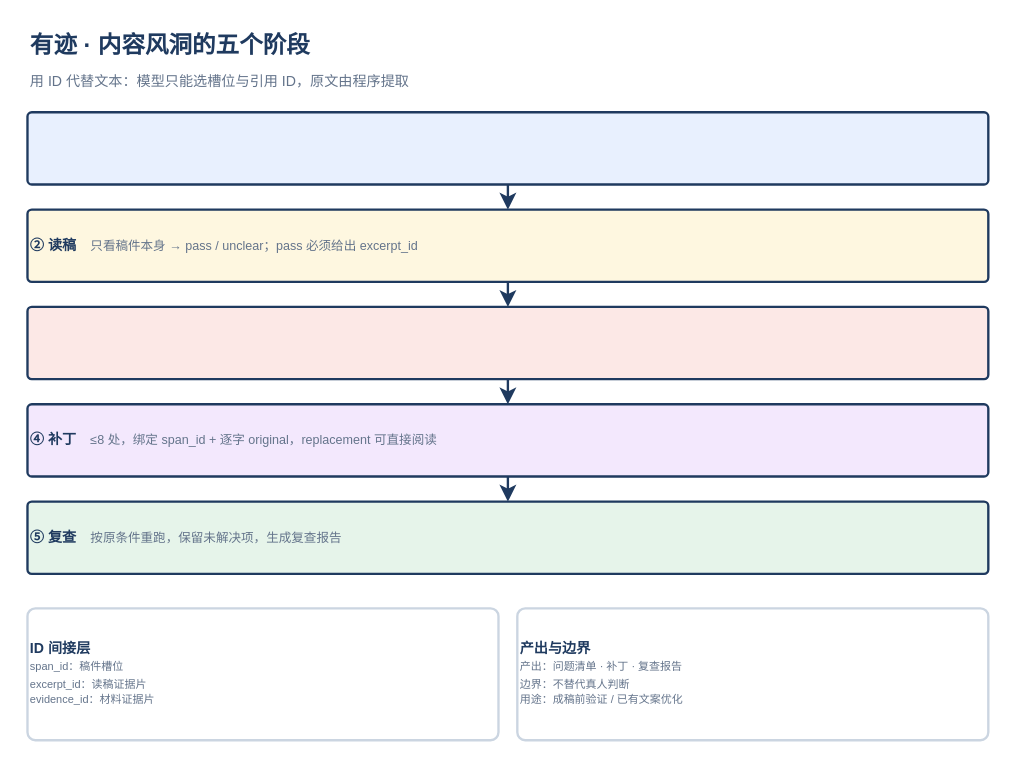
This 1017x768 diagram has some shape labels left out. Here are the shapes that lost their labels. From the top down, the centre of each, then its label:
At (507,147): "① 条件设定 作者写下这篇必须答对的问题（实测 12 条）".
At (507,342): "③ 核验 只用材料判有无依据 → evidence_id；读稿 unclear 则本步必 unclear".
